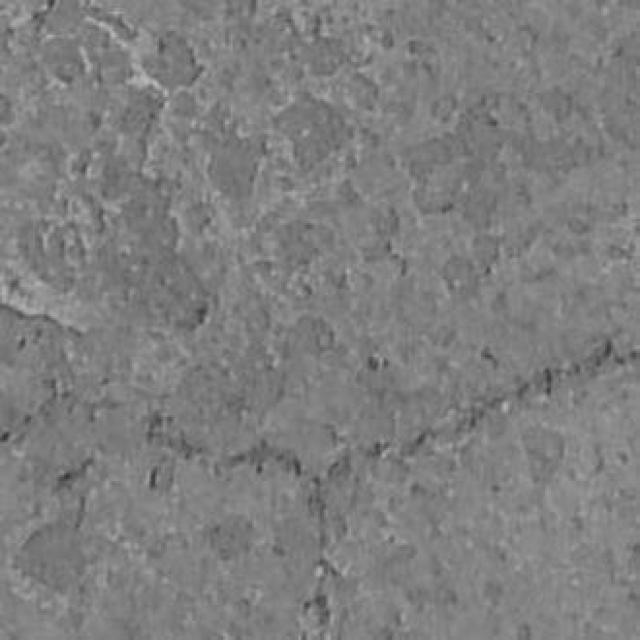crack: (396, 336, 639, 457), (222, 439, 304, 477)
